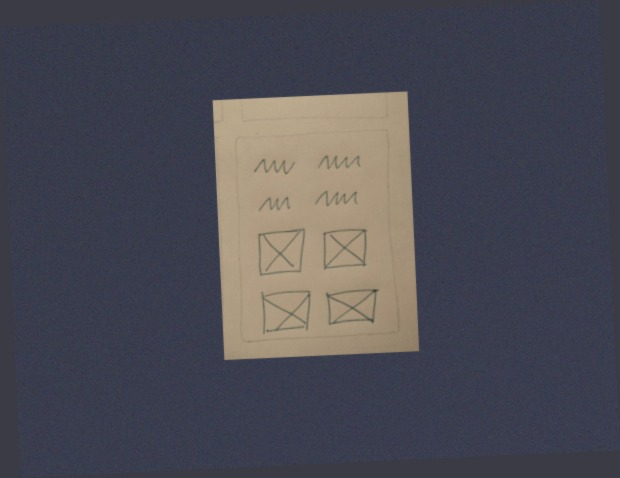image: (255, 286, 318, 338), (251, 227, 310, 278), (322, 286, 383, 329), (317, 227, 373, 272)
text: (313, 148, 367, 175), (249, 152, 299, 181), (312, 186, 361, 207), (255, 192, 294, 215)
